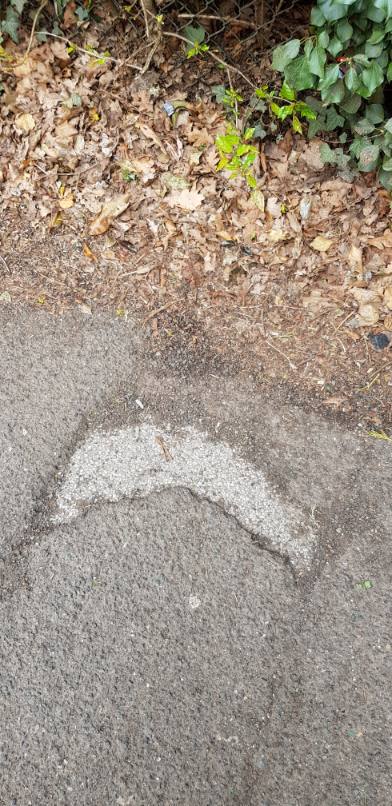pothole: (20, 395, 330, 583)
